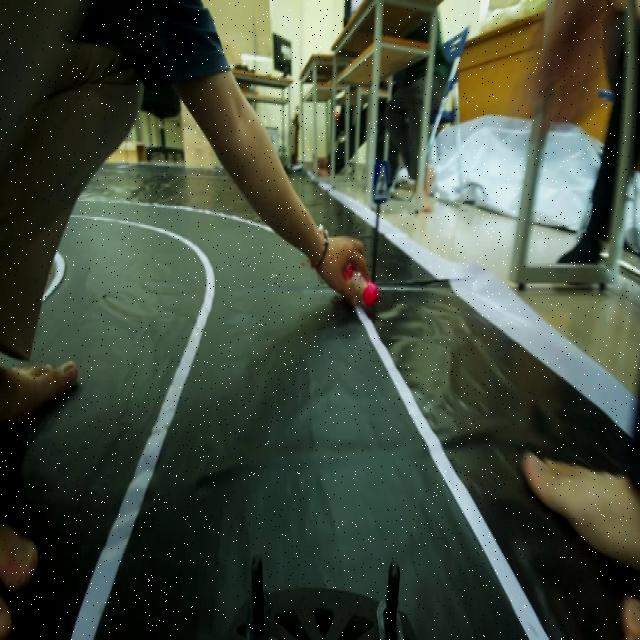crosswalk: (367, 154, 392, 210)
